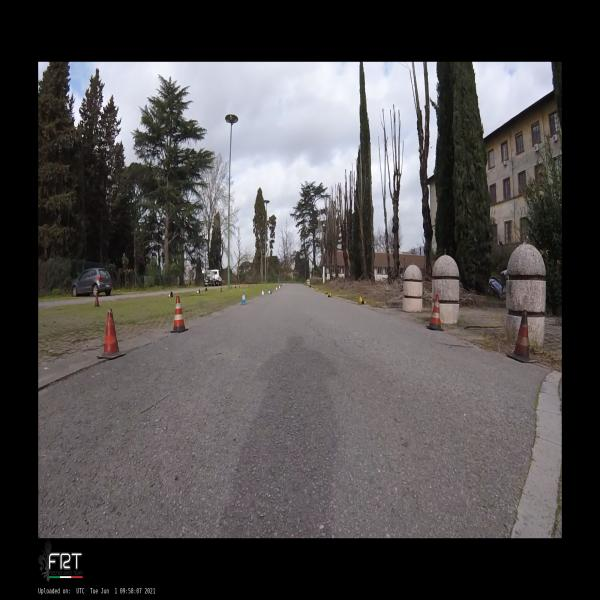blue_cone: (240, 291, 248, 305), (267, 290, 272, 294), (262, 290, 264, 298)
large_orange_cone: (506, 310, 536, 363), (170, 296, 189, 333), (426, 294, 444, 331)
orange_cone: (167, 292, 173, 297), (196, 289, 200, 294)
unknown_cone: (96, 308, 126, 359), (93, 294, 101, 307), (204, 288, 208, 291), (220, 286, 222, 292)
yellow_cone: (358, 296, 367, 304), (327, 292, 332, 297), (325, 290, 328, 294), (316, 288, 318, 293)
